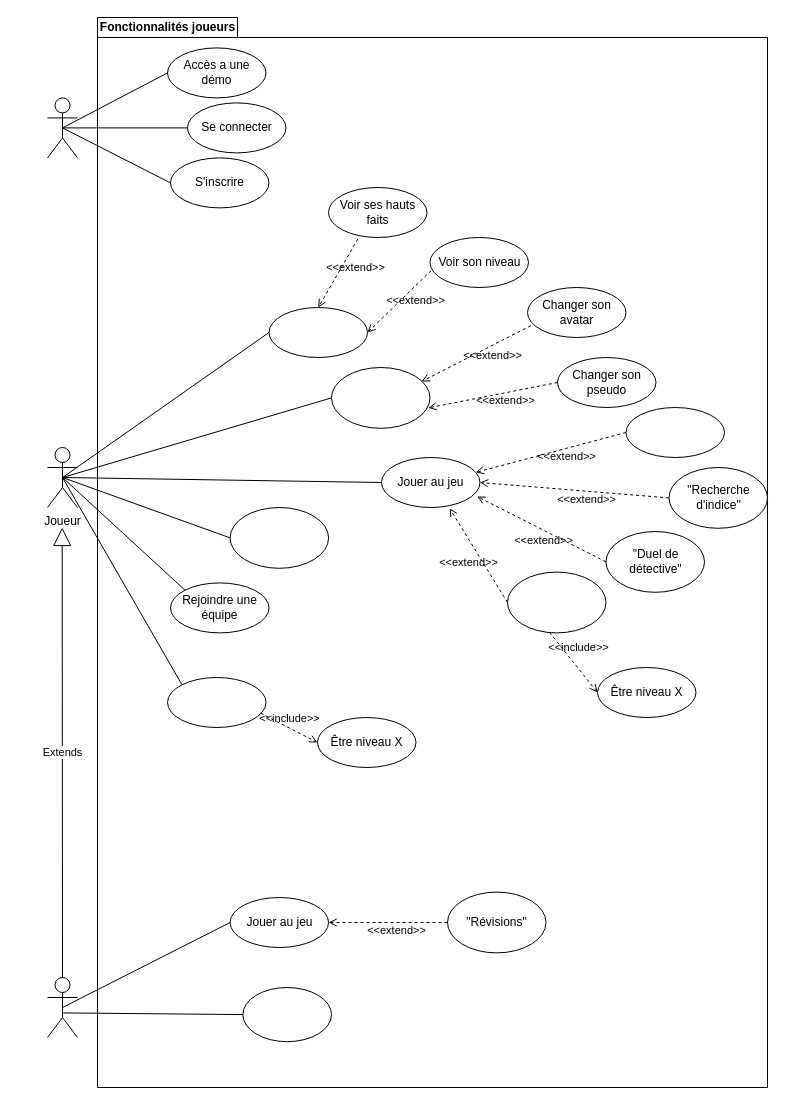
This 785x1105 diagram has some shape labels left out. Here are the shapes that lost their labels. From the top down, the box of each, then its label:
(46, 97, 78, 158): Invité
(268, 306, 368, 358): Consulter son profil
(330, 366, 430, 428): Modifier son profil
(625, 406, 724, 458): "Attrape Crimine"l
(229, 506, 329, 568): Consulter le classement
(506, 571, 606, 633): Choisir la difficulté
(166, 676, 266, 728): Créer une équipe
(46, 976, 78, 1038): Medecin/étudiant
(242, 986, 332, 1042): Choisir la difficluté dès l'inscription
